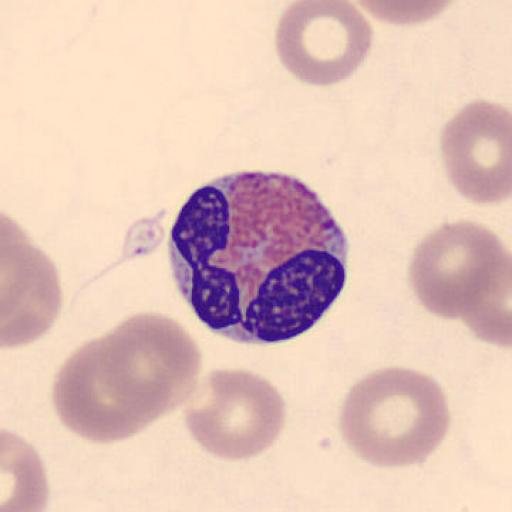RBC: (337, 364, 452, 470), (102, 310, 202, 426), (50, 332, 148, 446), (408, 218, 508, 322), (182, 365, 287, 463), (273, 0, 374, 89), (1, 221, 64, 349), (439, 98, 511, 207), (459, 248, 512, 349), (2, 427, 52, 512), (348, 0, 464, 27)
WBC: (167, 170, 351, 346)
